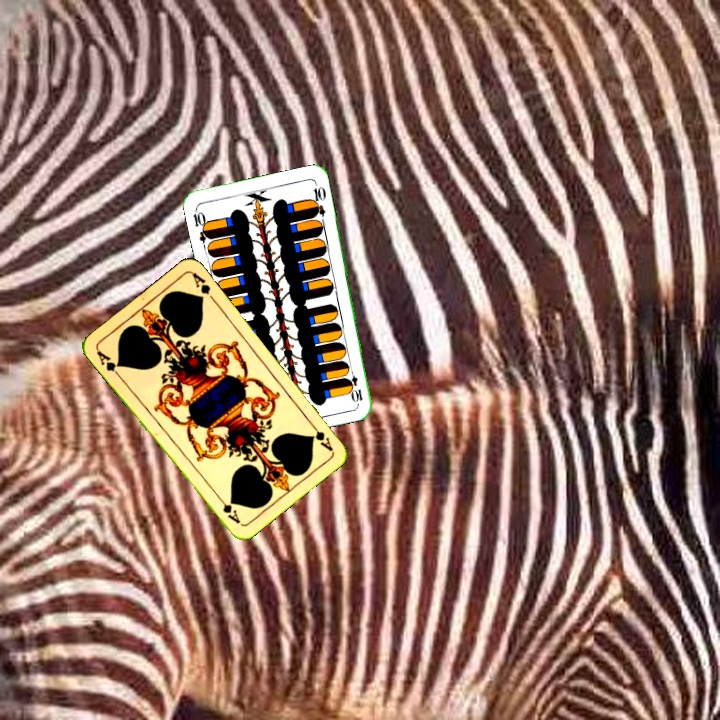E10: (189, 205, 213, 245), (345, 364, 365, 405)
GA: (92, 346, 123, 381), (306, 418, 335, 453)
